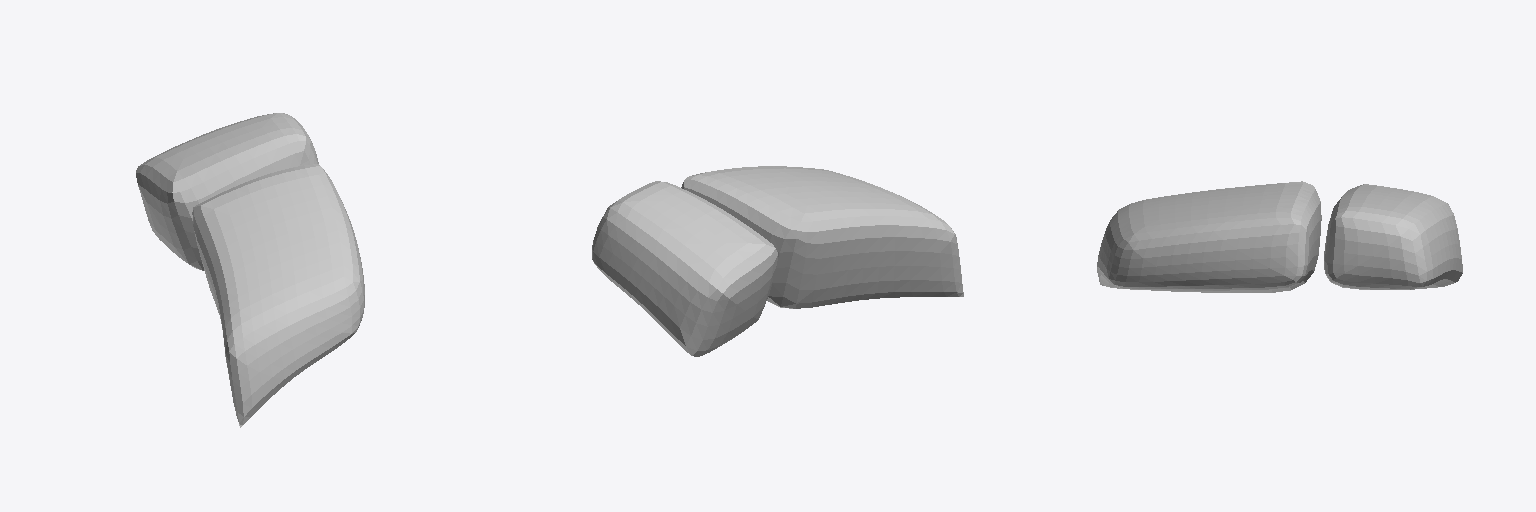
File: RightToe.obj
3 views of the same model, side by side, from view 1: azimuth 30°, elevation 25°; view 2: azimuth 150°, elevation 25°; view 3: azimuth 270°, elevation 25° (orthographic).
Visible parts, largest first — view 1: toes_right.001; view 2: toes_right.001; view 3: toes_right.001.
Boxes of the visible parts, x1=… form: toes_right.001: x1=136, y1=113, x2=364, y2=427; toes_right.001: x1=592, y1=166, x2=963, y2=356; toes_right.001: x1=1097, y1=181, x2=1462, y2=292.
Size of the model in its own units: 0.0516 by 0.0373 by 0.0762.